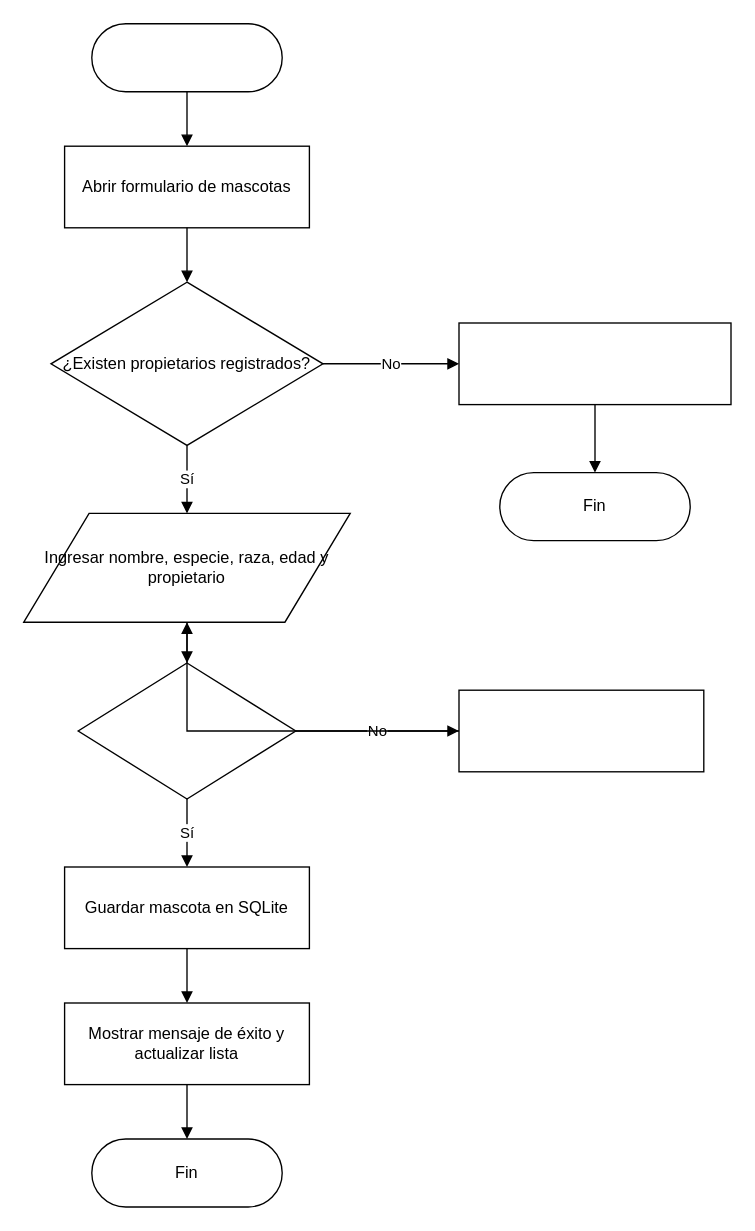
The diagram is 755 pixels wide and 1231 high, and some of its shapes have lost their labels. Each missing label, with the centre of its shape:
Inicio: [186,57]
Mostrar mensaje de error: [581,730]
Mostrar mensaje: registre un propietario primero: [594,363]
¿Datos completos?: [186,730]
